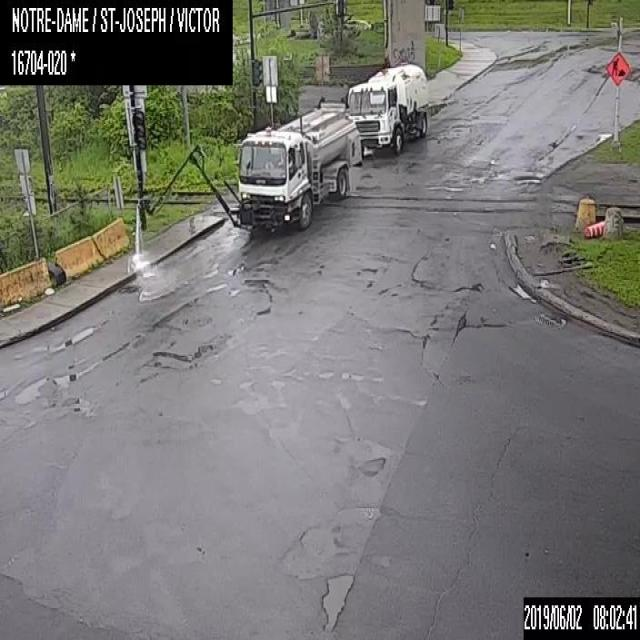construction: (605, 51, 630, 85), (581, 219, 604, 237)
vehicle: (237, 103, 360, 229), (347, 64, 428, 151)
